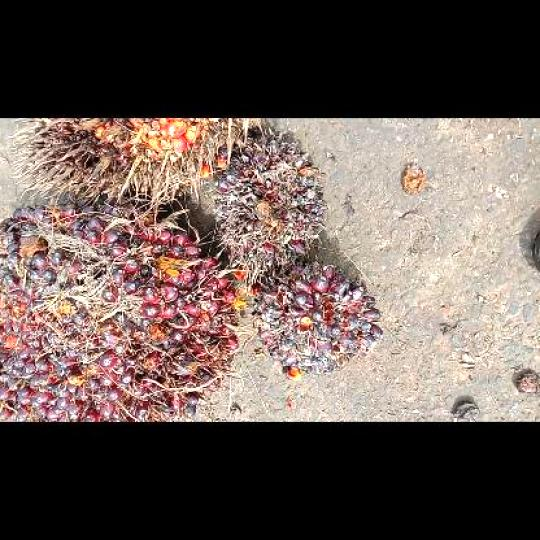masak: (0, 202, 239, 421)
terlalu masak: (11, 119, 262, 221)
